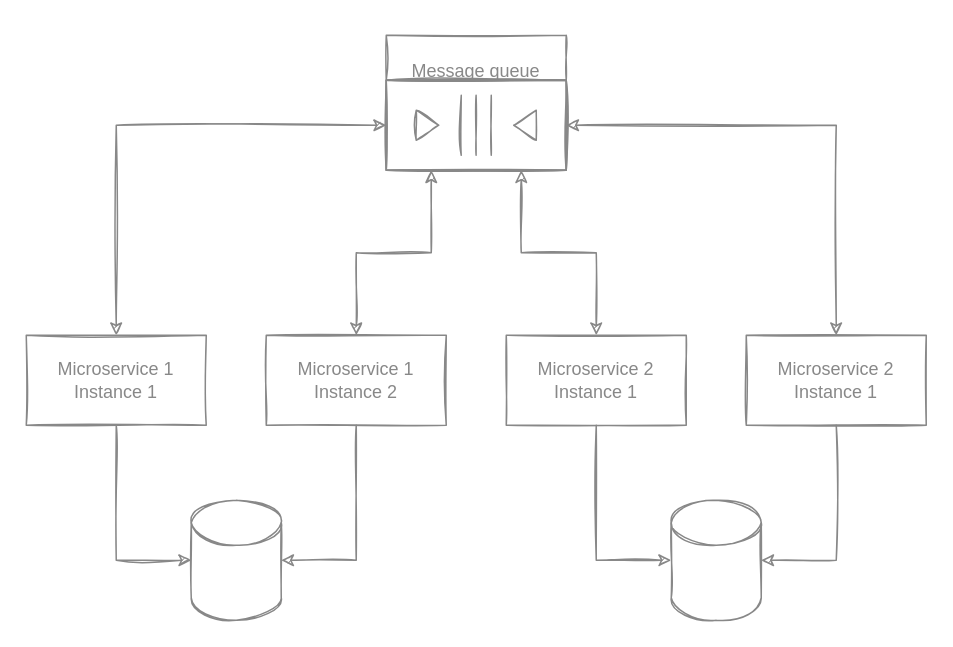
This 953x647 diagram has some shape labels left out. The centre of each missing label's shape, as x and y in pixels:
DB 1: the point at 235,559
DB 2: the point at 715,559
